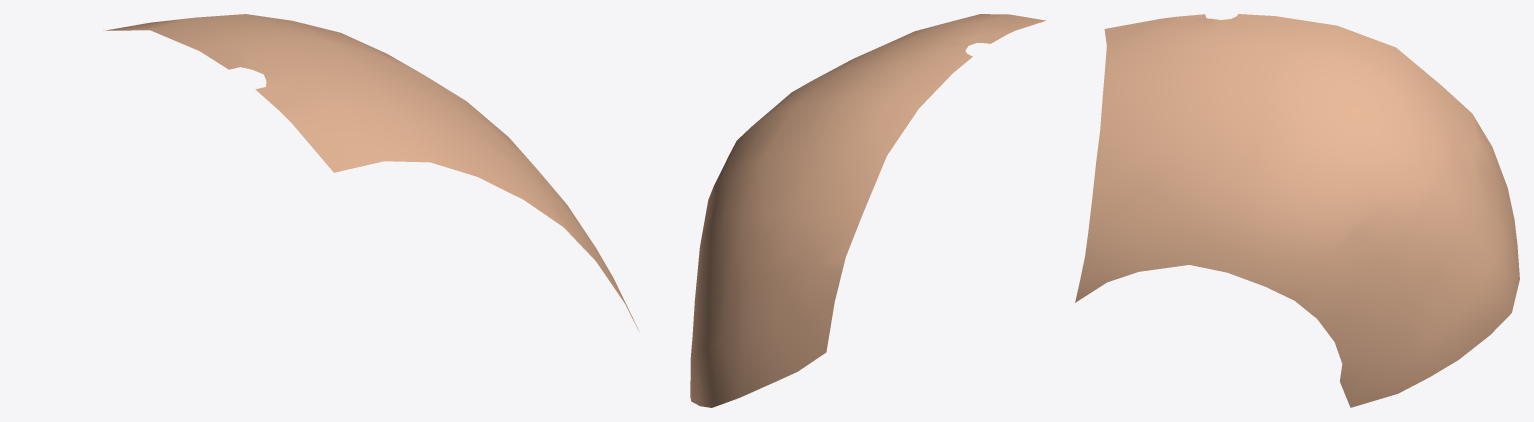
Rendered from parietal-region-l.glb.
3 views of the same model, side by side, from view 1: azimuth 30°, elevation 25°; view 2: azimuth 150°, elevation 25°; view 3: azimuth 270°, elevation 25° (orthographic). The views are drawn at different scales.
Parts seen in each view (by area): view 1: Parietal region.l; view 2: Parietal region.l; view 3: Parietal region.l.
Boxes of the visible parts, x1=… form: Parietal region.l: x1=103, y1=14, x2=639, y2=332; Parietal region.l: x1=690, y1=14, x2=1045, y2=407; Parietal region.l: x1=1075, y1=14, x2=1519, y2=407.
Size of the model in its own units: 0.0788 by 0.1052 by 0.1411.
